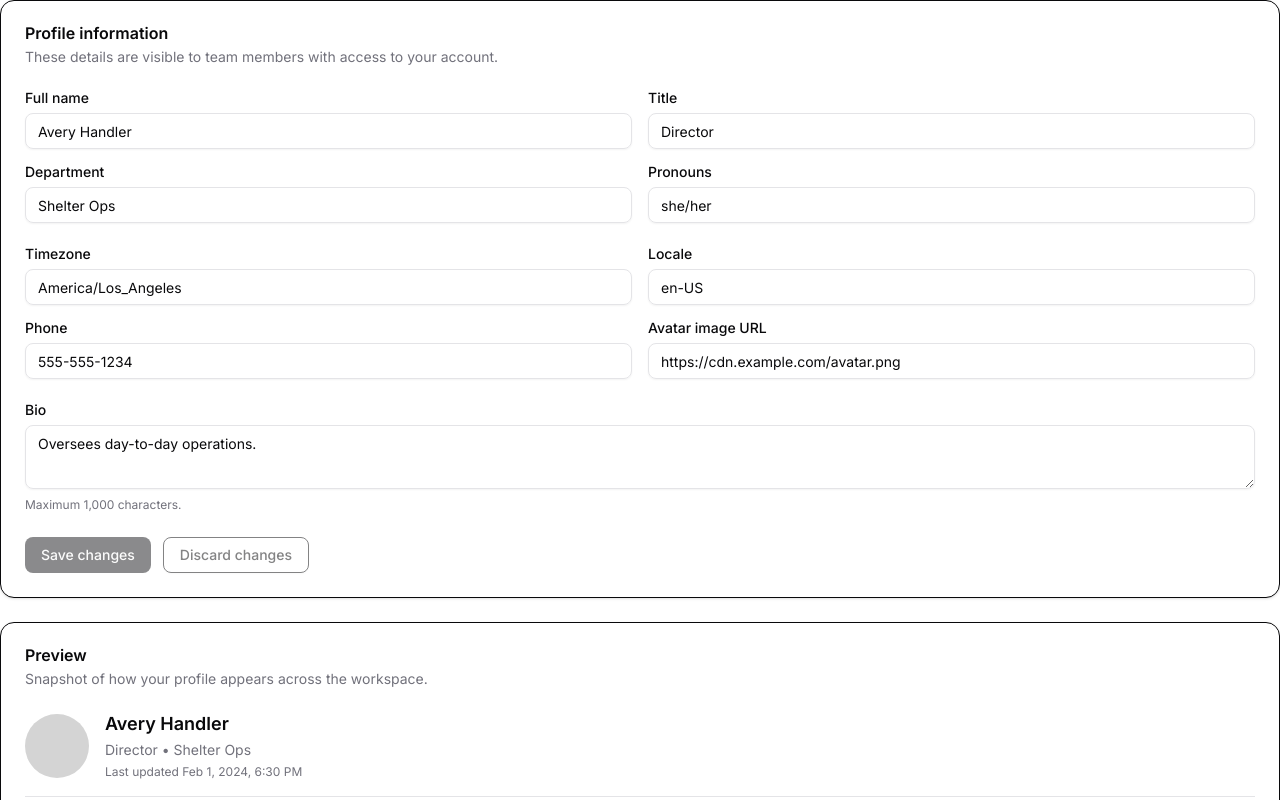
Test: ProfileSettingsPage › submits updates with normalized payload
Step 1. Replace the text in the field labelled "Full name" with "Avery H." → {"x": 328, "y": 131}, box [25,113,632,149]
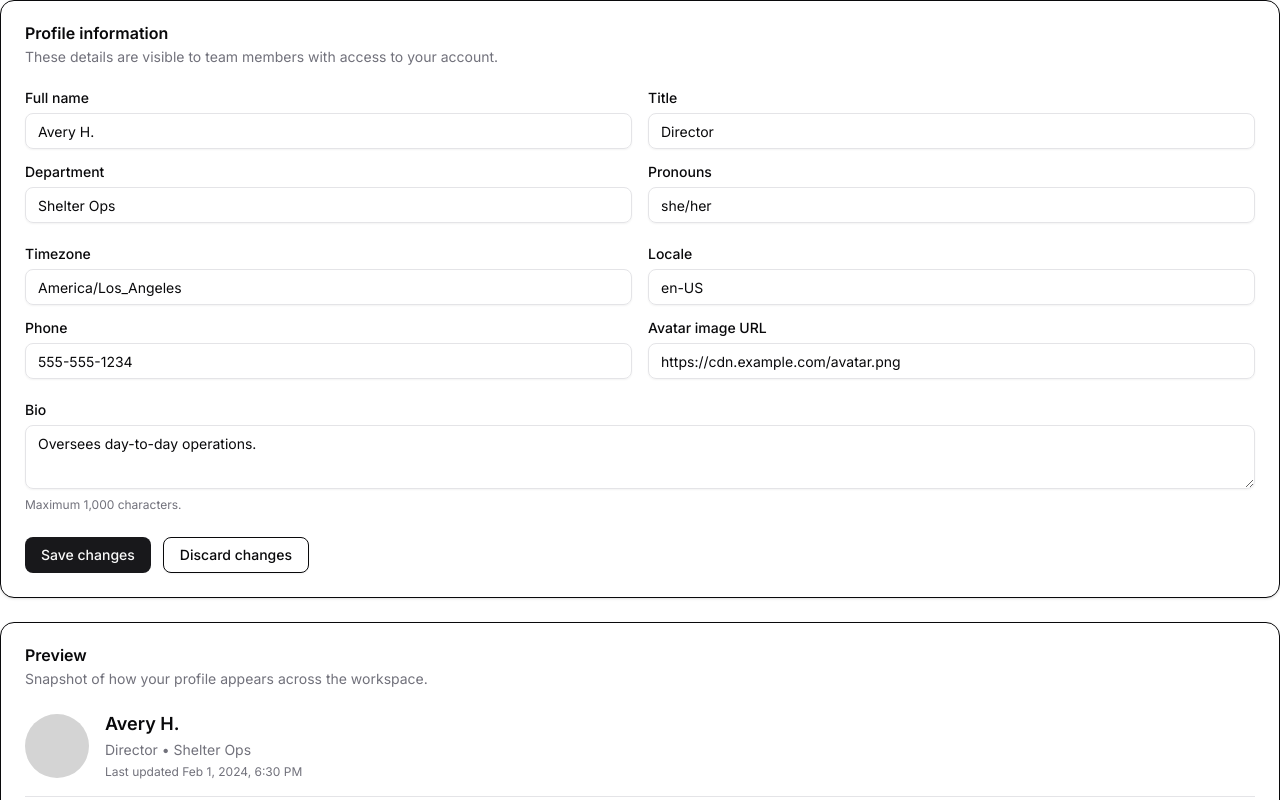
Step 2. Replace the text in the text box labelled "Bio" with "Ready to help every pet find a home." → {"x": 640, "y": 457}, box [25,425,1255,489]
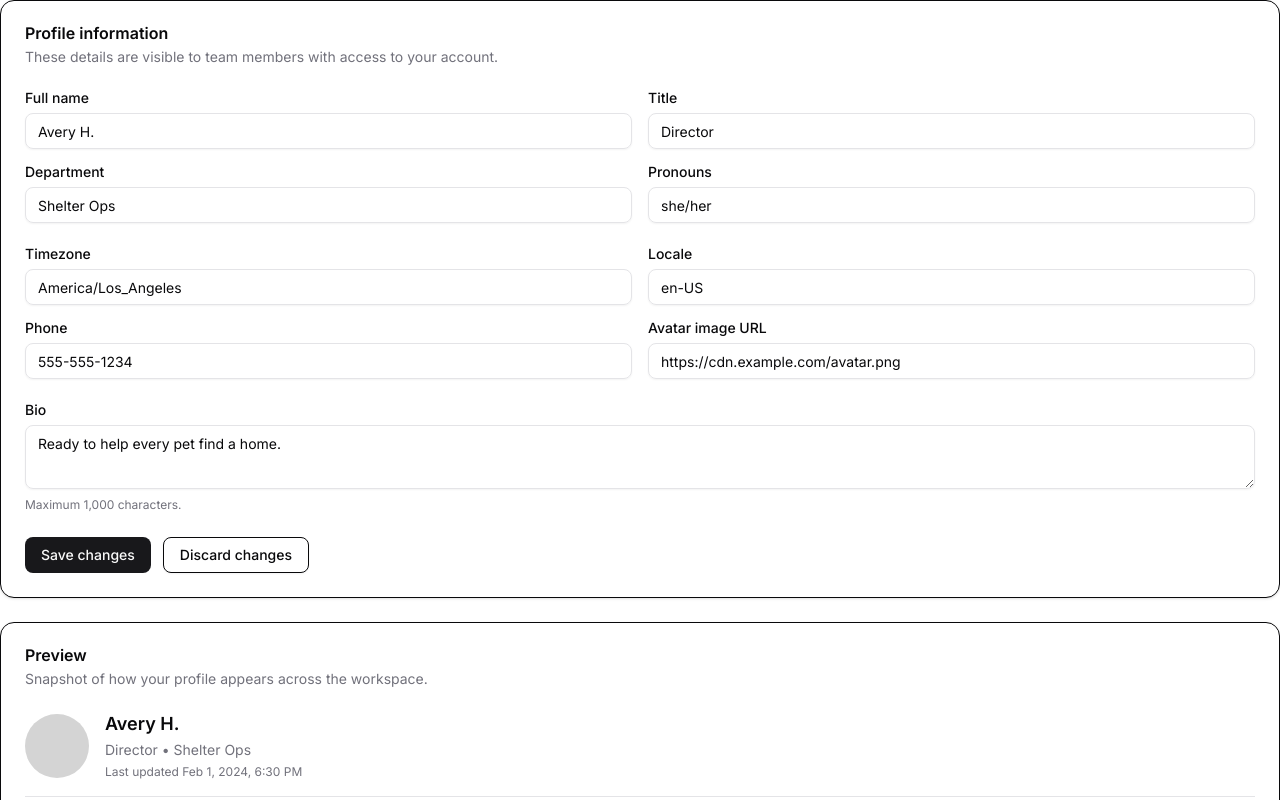
Step 3. Click the button "Save changes" → {"x": 88, "y": 555}, box [25,537,151,573]
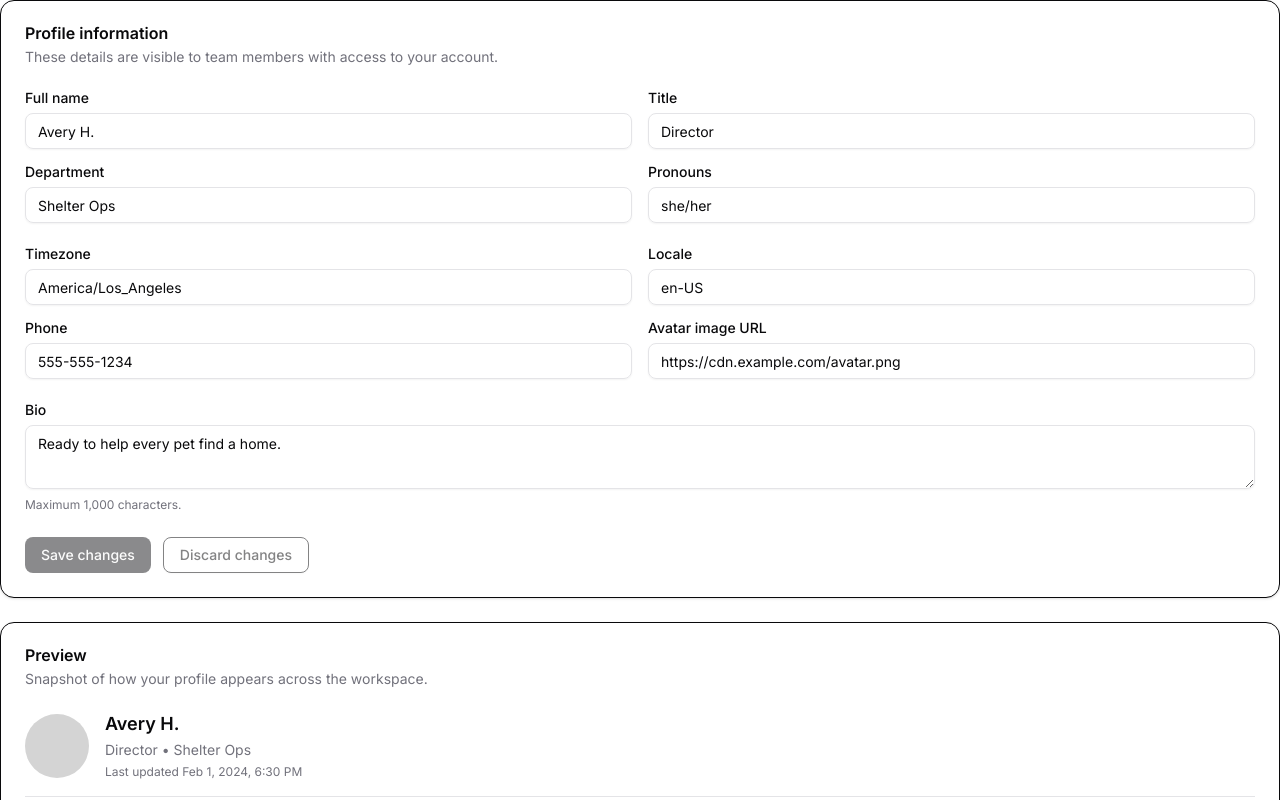
Expected: the button "Save changes" is disabled, [25,537,151,573]
